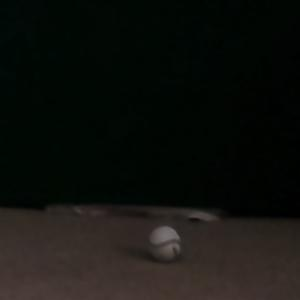ball: (147, 226, 182, 265)
